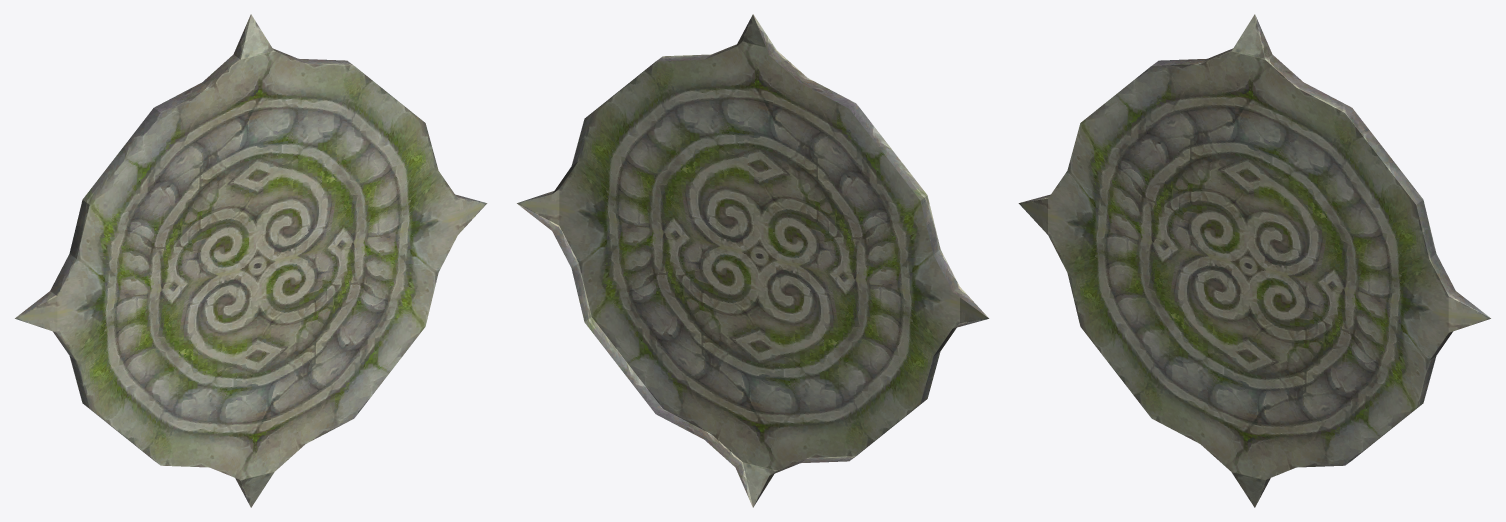
Rendered from jingling_02_building_02b.obj.
3 renders of one model, left to right at view 1: azimuth 30°, elevation 25°; view 2: azimuth 150°, elevation 25°; view 3: azimuth 330°, elevation 25°, orthographic.
Parts seen in each view (by area): view 1: jingling_02_building_02b; view 2: jingling_02_building_02b; view 3: jingling_02_building_02b.
Boxes of the visible parts, x1=… form: jingling_02_building_02b: x1=15, y1=14, x2=487, y2=507; jingling_02_building_02b: x1=517, y1=14, x2=989, y2=507; jingling_02_building_02b: x1=1018, y1=14, x2=1490, y2=507.
Bounding box in the file's own units: 1319 × 1316 × 35.63.
1 material, 1 textured.
